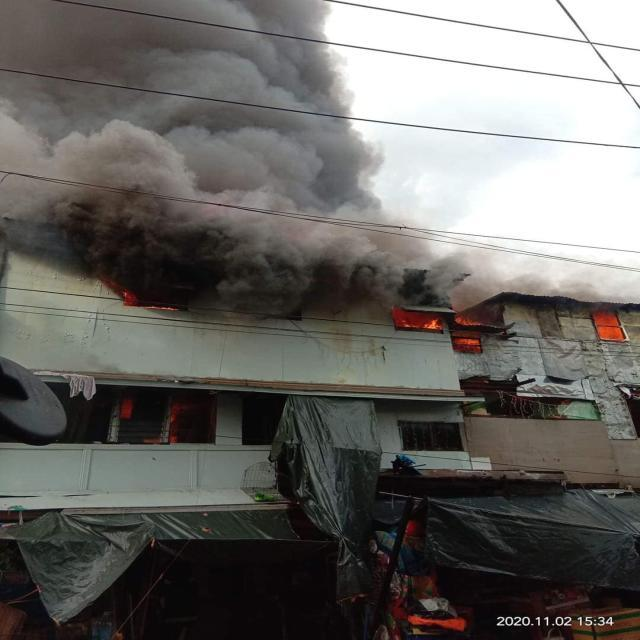Fire: (586, 305, 636, 346), (389, 306, 454, 336), (444, 329, 489, 356)
Smoke: (0, 0, 382, 302)
